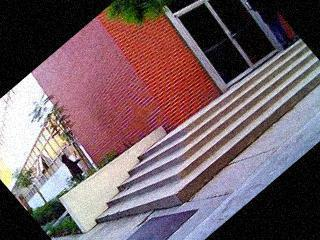Escaleras: (82, 26, 320, 240)
